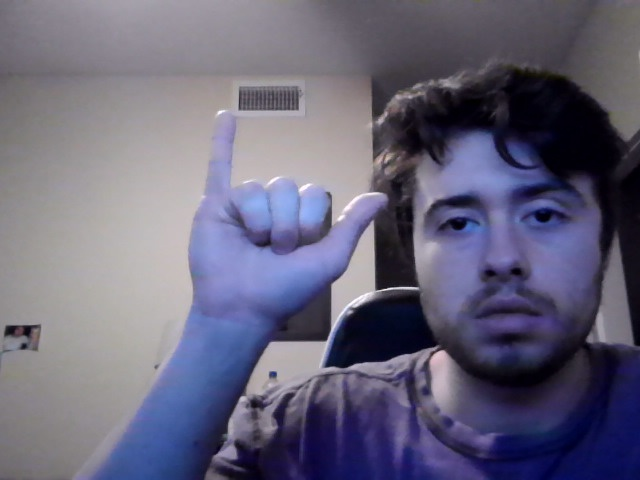y: (188, 109, 389, 355)
